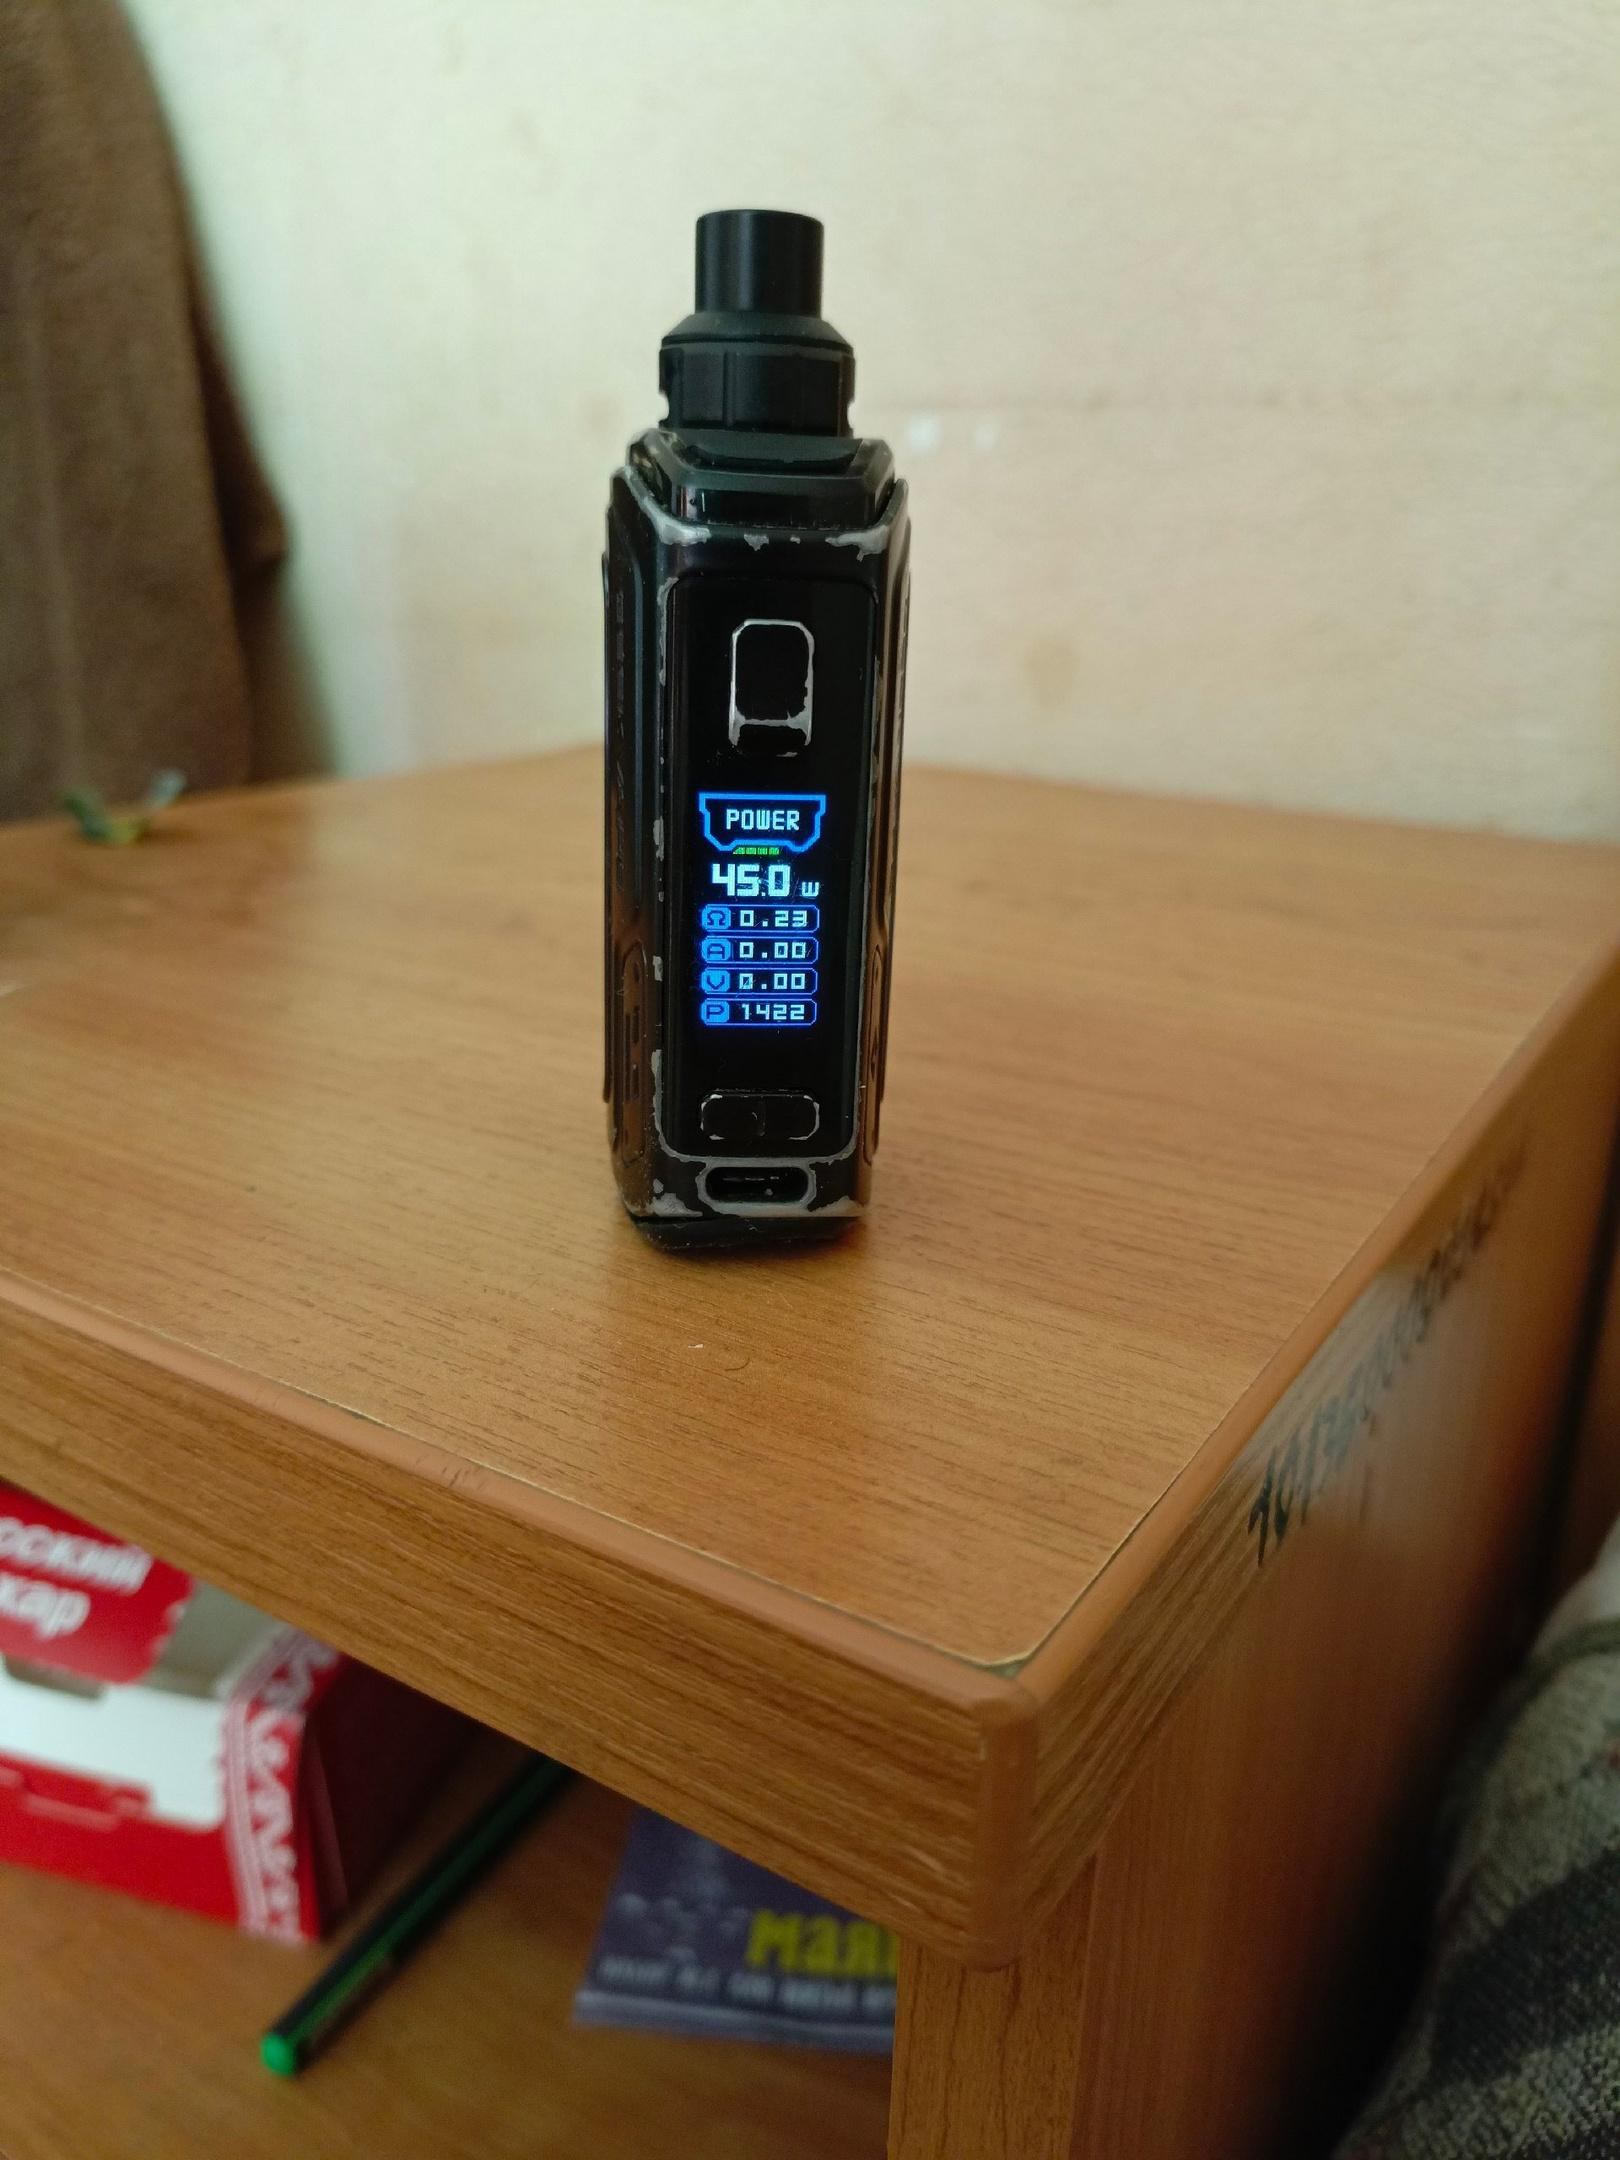Vape: (604, 209, 909, 1243)
